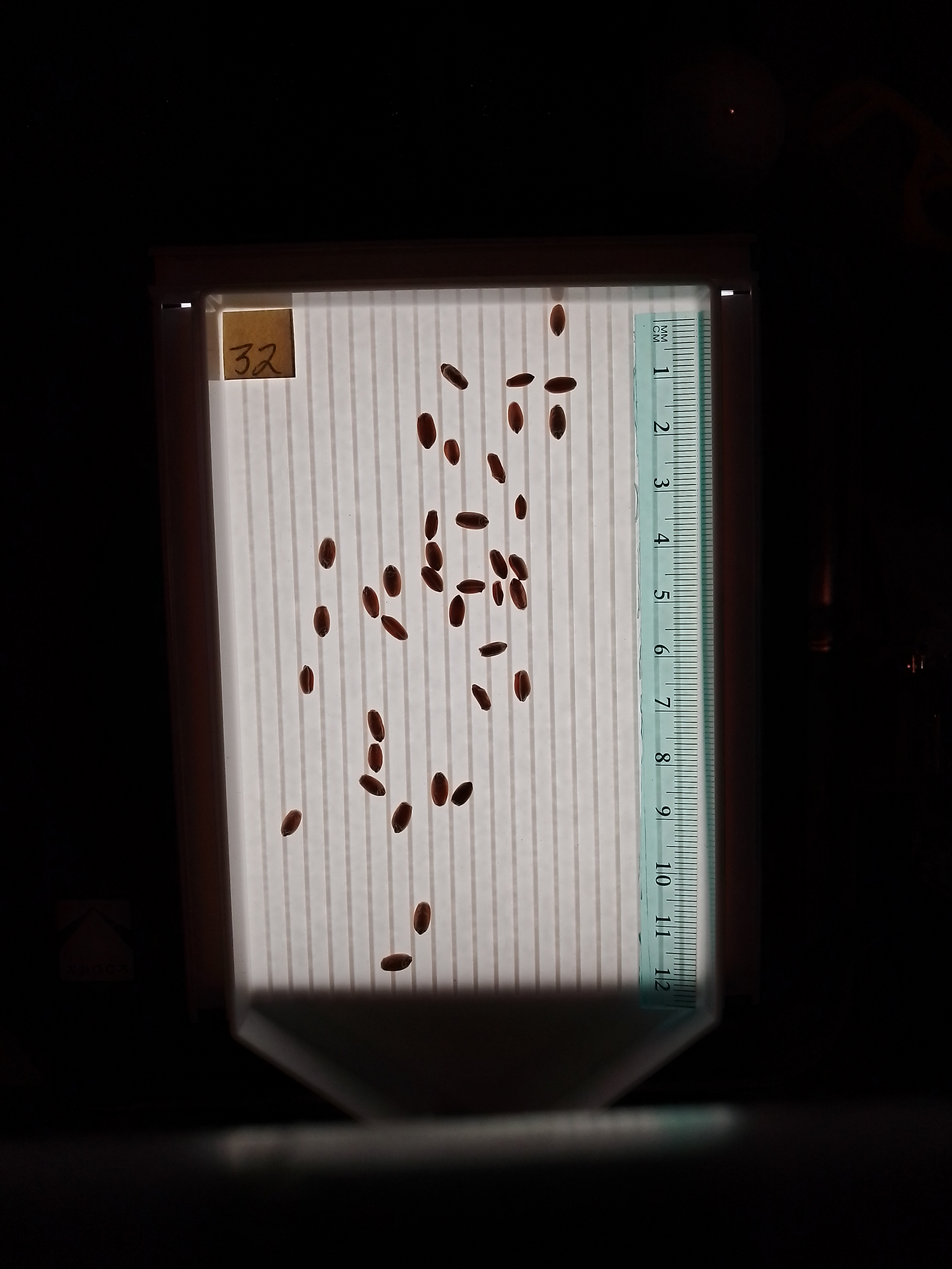seed mask: (441, 364, 468, 390), (417, 413, 437, 448), (359, 774, 386, 797), (361, 586, 380, 618), (392, 802, 412, 832), (382, 616, 407, 640), (549, 304, 567, 337), (381, 953, 412, 972), (456, 512, 488, 530), (281, 809, 301, 837), (367, 710, 385, 741), (421, 567, 443, 592), (383, 566, 401, 596), (313, 606, 330, 637), (319, 538, 336, 569), (545, 377, 576, 394), (414, 903, 431, 934), (425, 542, 443, 571), (514, 671, 531, 701), (452, 782, 473, 806), (432, 774, 448, 805), (449, 596, 465, 627), (510, 580, 527, 609), (508, 403, 524, 433), (550, 406, 565, 438), (488, 455, 505, 483), (472, 685, 491, 710), (509, 556, 528, 580), (368, 744, 383, 773), (479, 641, 506, 657), (491, 551, 507, 578), (507, 372, 534, 388), (444, 439, 460, 465), (300, 666, 314, 694), (425, 511, 438, 539), (458, 580, 484, 594), (514, 496, 528, 519), (492, 583, 504, 604)
